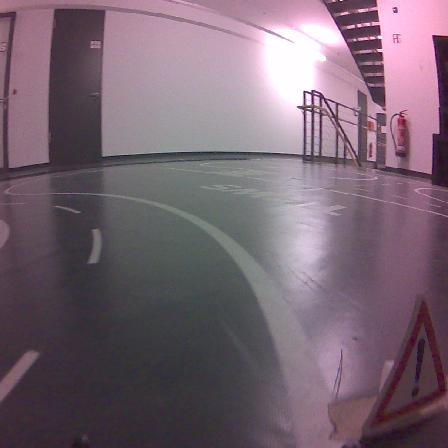ATTENTION: (363, 297, 446, 436)
